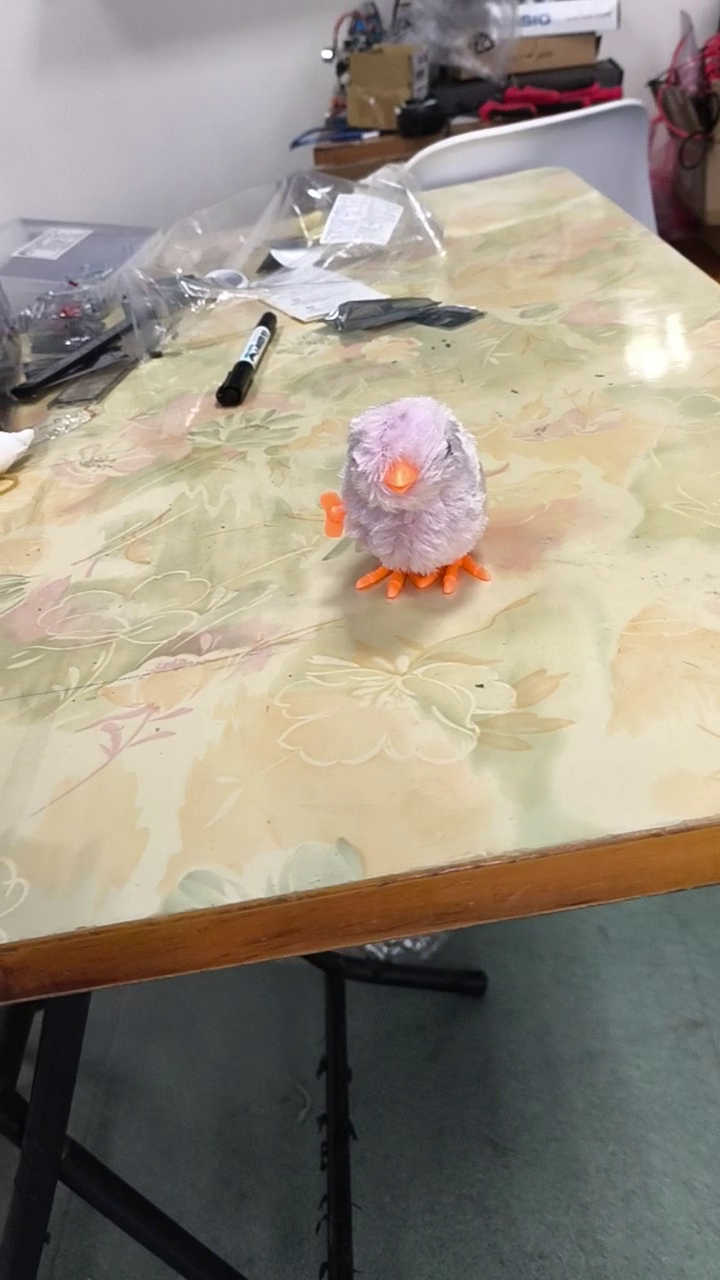pink chicken: (320, 392, 498, 600)
